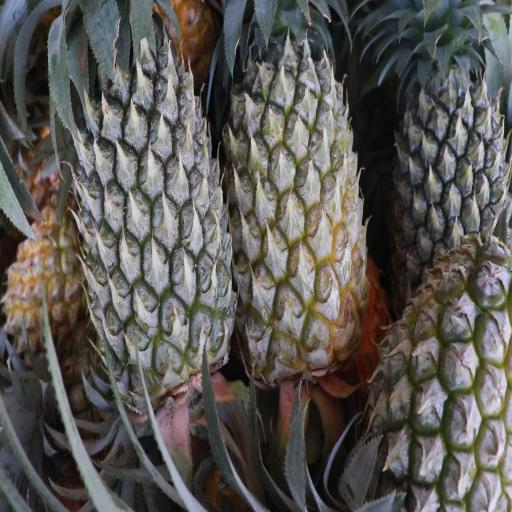------------------------------: (228, 15, 370, 369), (380, 244, 512, 512)
Pineapple - v8 v1: (3, 197, 82, 349)
